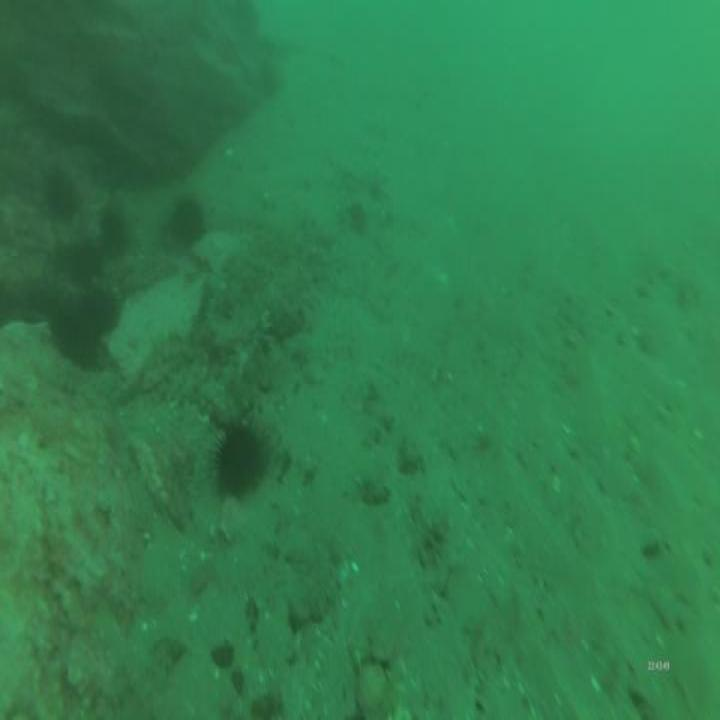echinus: (208, 416, 266, 503), (163, 190, 209, 253), (81, 284, 124, 340), (40, 162, 78, 222), (95, 202, 129, 252)
holothurian: (260, 246, 321, 342), (284, 533, 340, 633)
